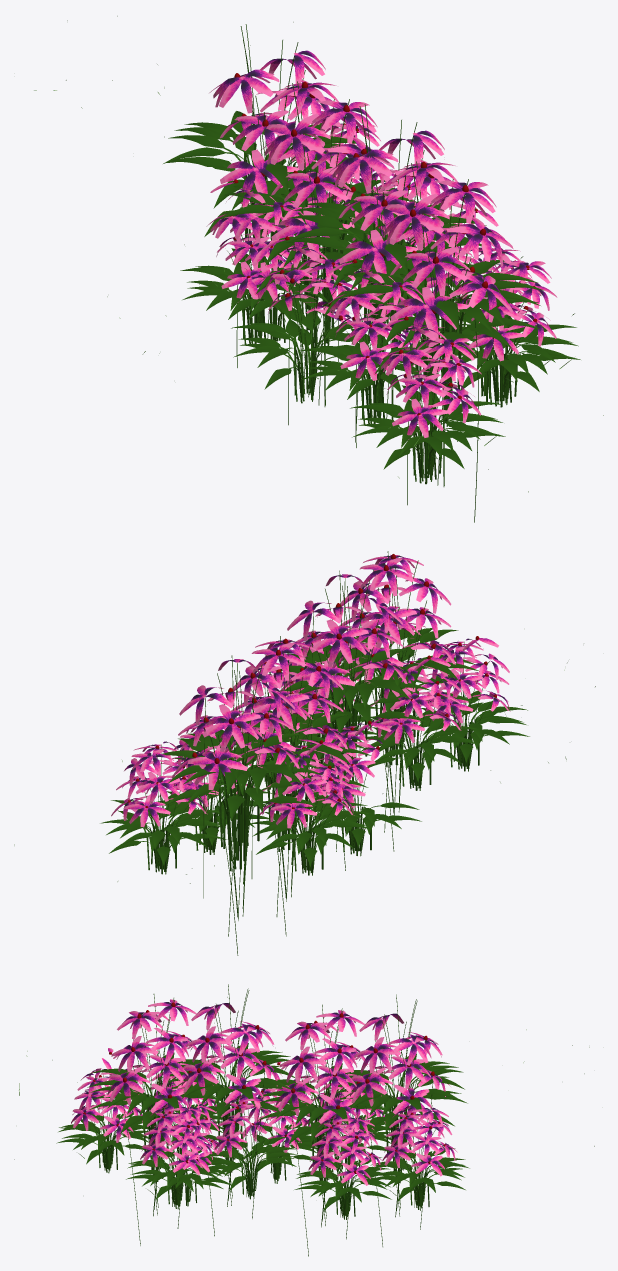
The model's file is conf.glb.
The picture shows the model from 3 angles, top to bottom: view 1: azimuth 30°, elevation 25°; view 2: azimuth 150°, elevation 25°; view 3: azimuth 270°, elevation 25°; orthographic projection. The views are drawn at different scales.
Bounding box in the file's own units: 2.24 × 1.9 × 3.99.
Materials: 4 (2 with a texture image).
